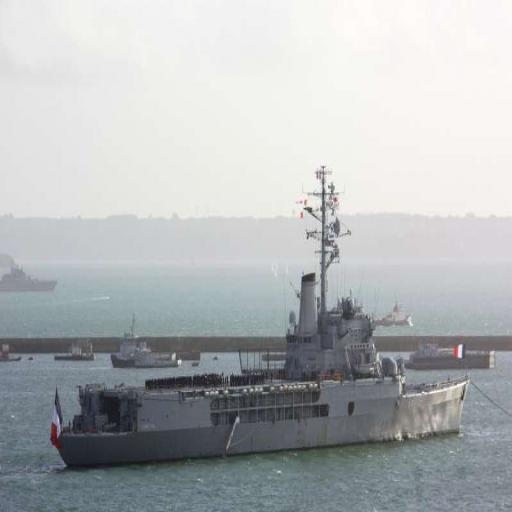Portanaves: (45, 158, 475, 475)
